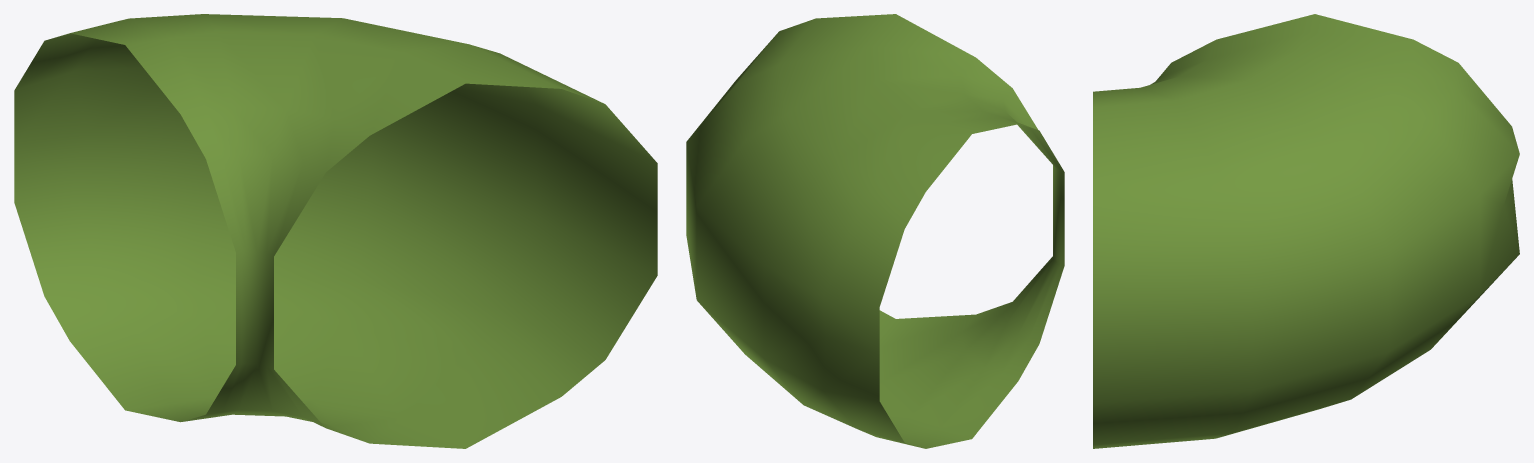
The model's file is turn_left_low.fbx.
3 views of the same model, side by side, from view 1: azimuth 30°, elevation 25°; view 2: azimuth 150°, elevation 25°; view 3: azimuth 270°, elevation 25° (orthographic). The views are drawn at different scales.
Parts seen in each view (by area): view 1: turn_left; view 2: turn_left; view 3: turn_left.
Part boxes in pixels (x1,y1,x2,y2): turn_left: (14,14,657,448); turn_left: (686,14,1064,448); turn_left: (1093,14,1519,448).
Bounding box in the file's own units: 94.44 × 80.86 × 96.21.
1 material, 1 textured.
